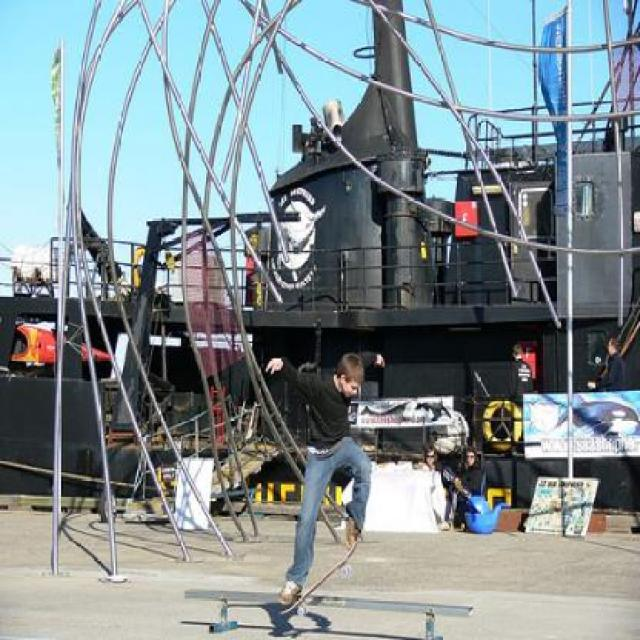ship: (0, 0, 637, 497)
